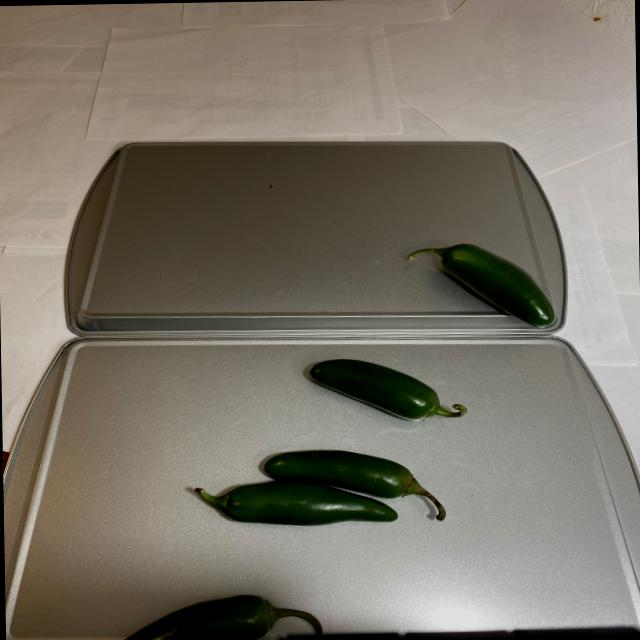chilli: (111, 354, 468, 640), (399, 237, 561, 335)
